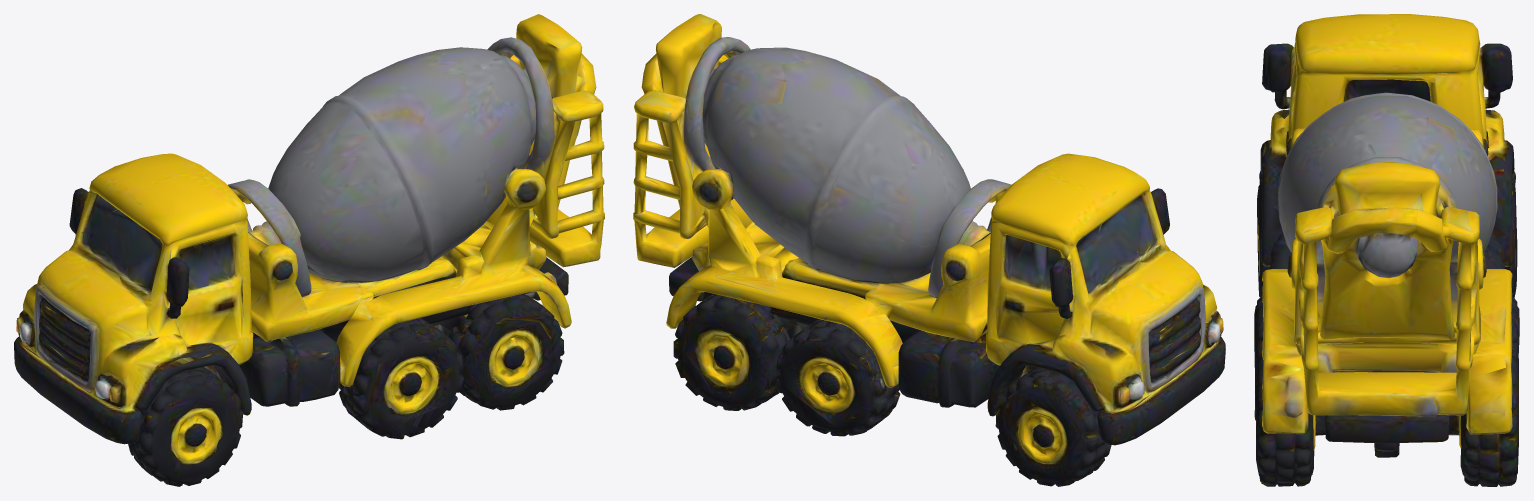
3 views of the same model, side by side, from view 1: azimuth 30°, elevation 25°; view 2: azimuth 150°, elevation 25°; view 3: azimuth 270°, elevation 25° (orthographic). The views are drawn at different scales.
Size of the model in its own units: 1.9 by 1.11 by 0.7345.
1 material, 1 textured.
